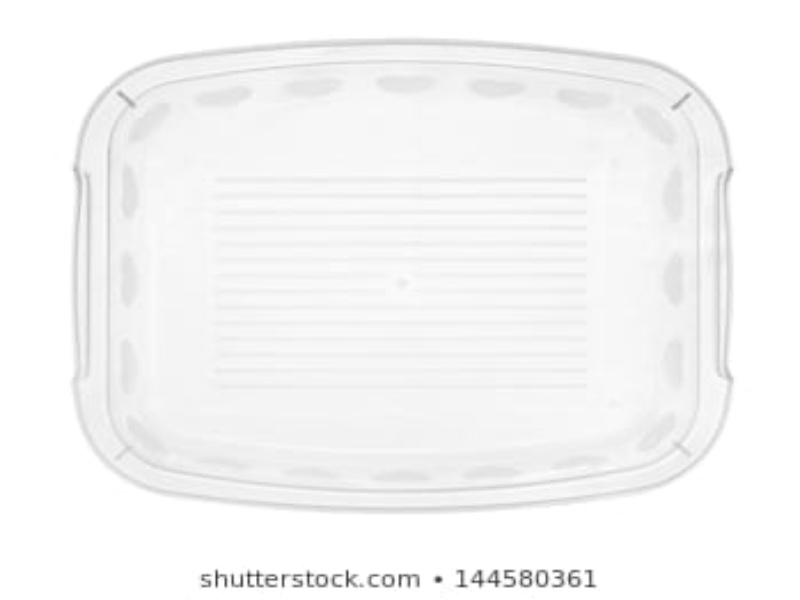plastic-tray: (70, 35, 730, 513)
